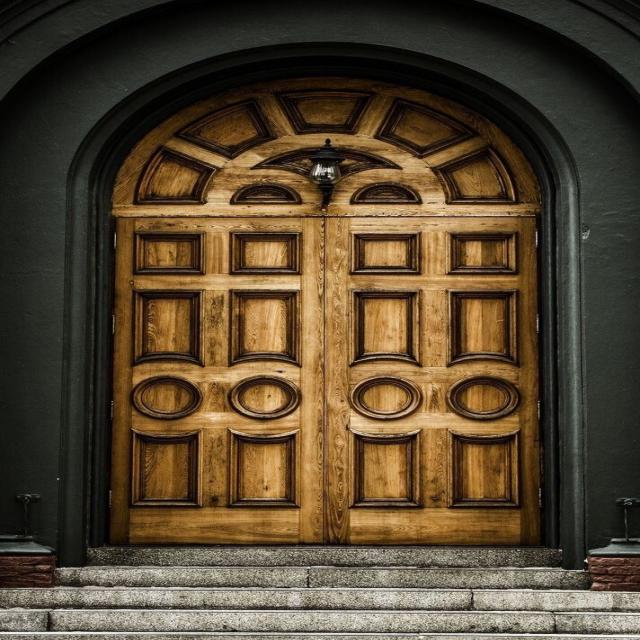close: (115, 207, 544, 563)
